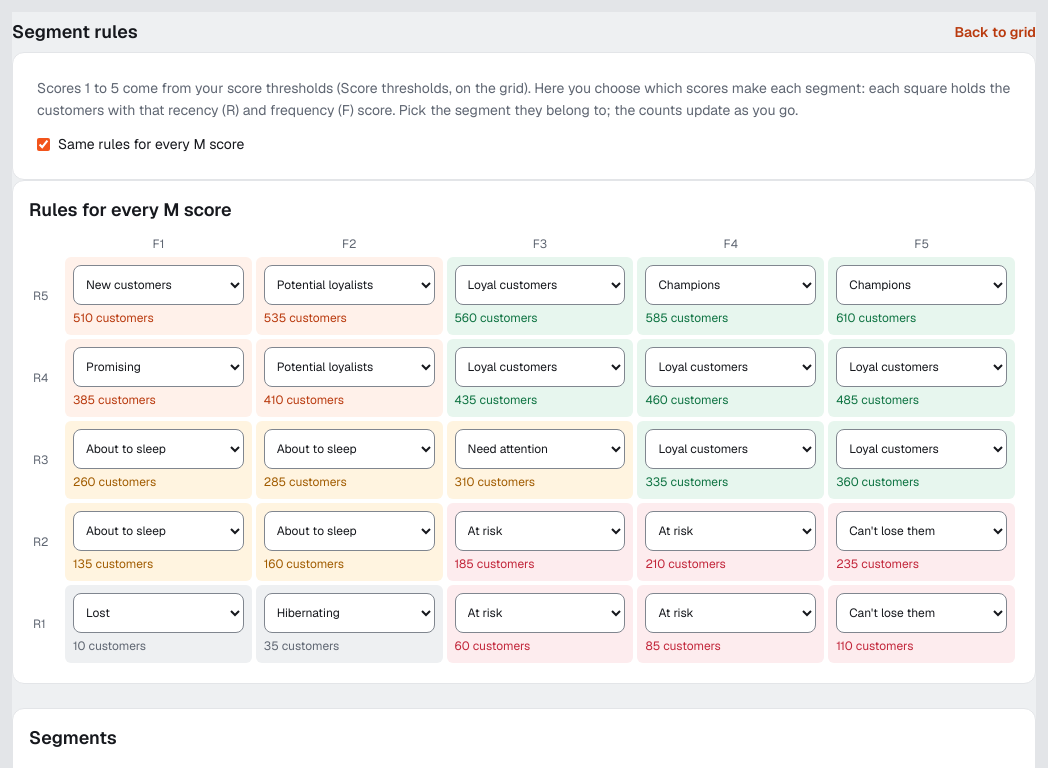
Test: RulesScreen (S7, PRD story 6) › shows one choice per recency × frequency square, with its customers
Expected: the cell with test id "cell-R5-F1" reads "510 customers", [73, 310, 154, 326]
R1 F1 for M2 alone holds 1 customer in the fixture.
What coordinates should you click on to do the following:
click the checkbox labelled "Same rules for every M score"
I would click on:
 (44, 144)
Its box is [37, 138, 50, 150].
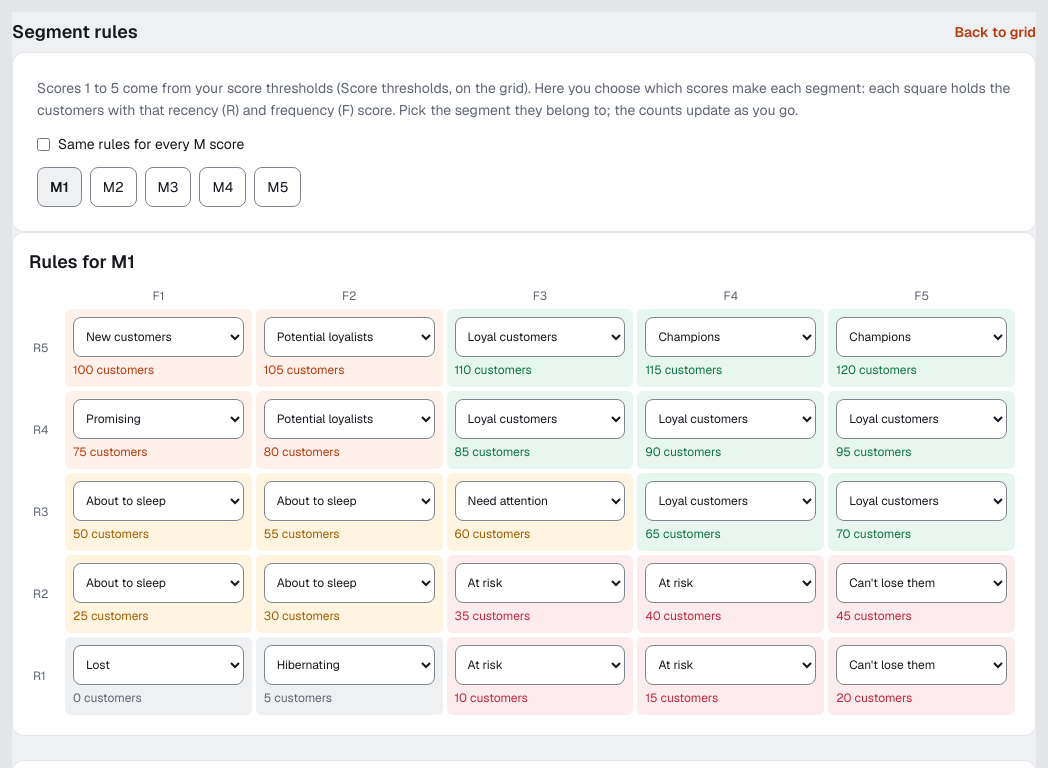
What coordinates should you click on to do the following:
click the radio button labelled "M2"
I would click on:
 (113, 187)
Its box is [90, 167, 137, 207].
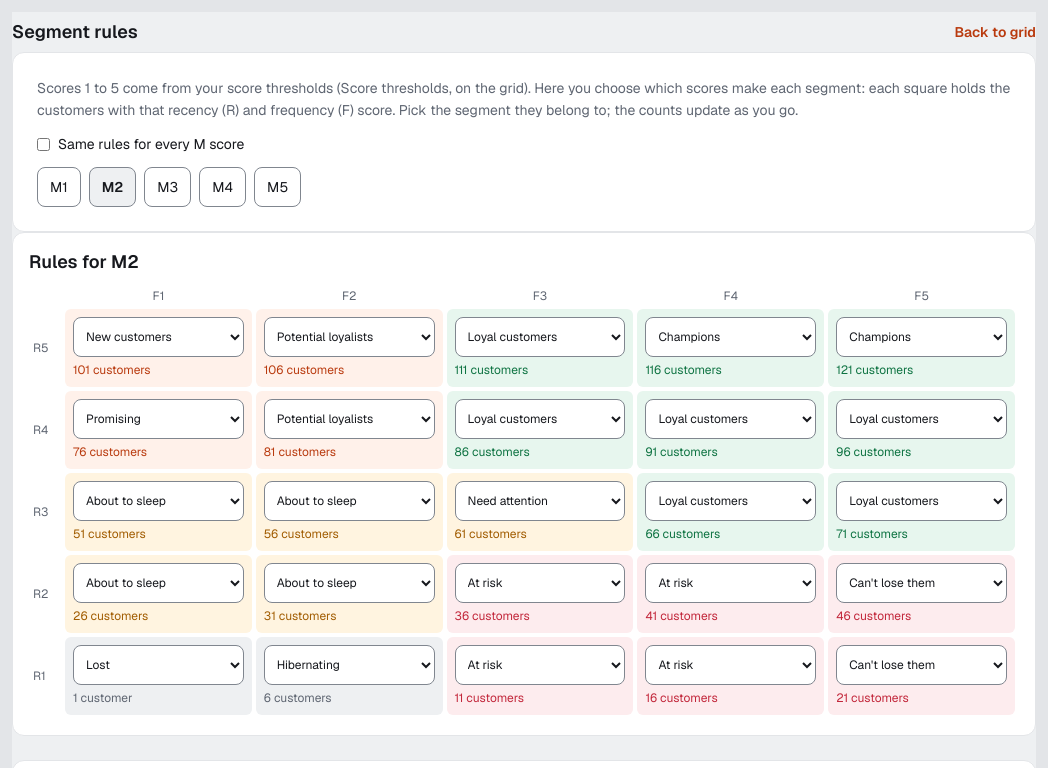
Expected: the element with test id "cell-R1-F1" does not show "1 customers"
Expected: the cell with test id "cell-R1-F1" reads "1 customer", [73, 690, 132, 706]
